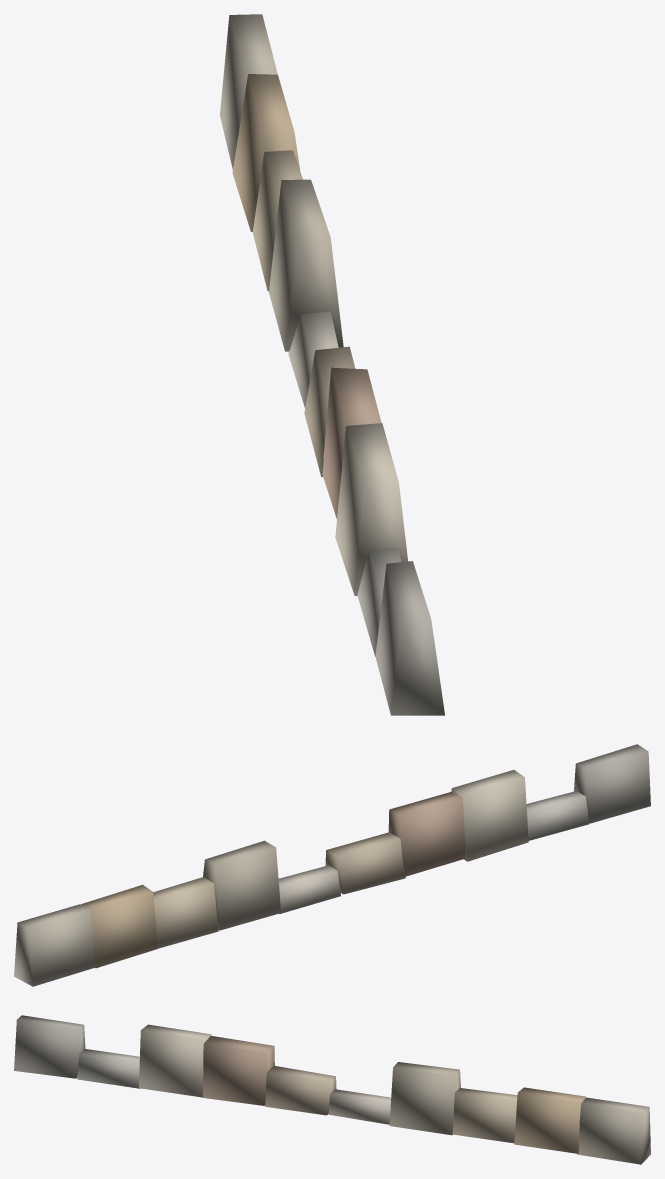
The model's file is farm_5_3_far.glb.
The picture shows the model from 3 angles, top to bottom: view 1: azimuth 30°, elevation 25°; view 2: azimuth 150°, elevation 25°; view 3: azimuth 270°, elevation 25°; orthographic projection. The views are drawn at different scales.
Visible parts, largest first — view 1: geometry_0; view 2: geometry_0; view 3: geometry_0.
Boxes of the visible parts, x1,y1,x2,y2 form: geometry_0: (220, 14, 444, 715); geometry_0: (14, 744, 650, 986); geometry_0: (14, 1015, 650, 1164).
Size of the model in its own units: 6.69 by 1.8 by 14.84.
